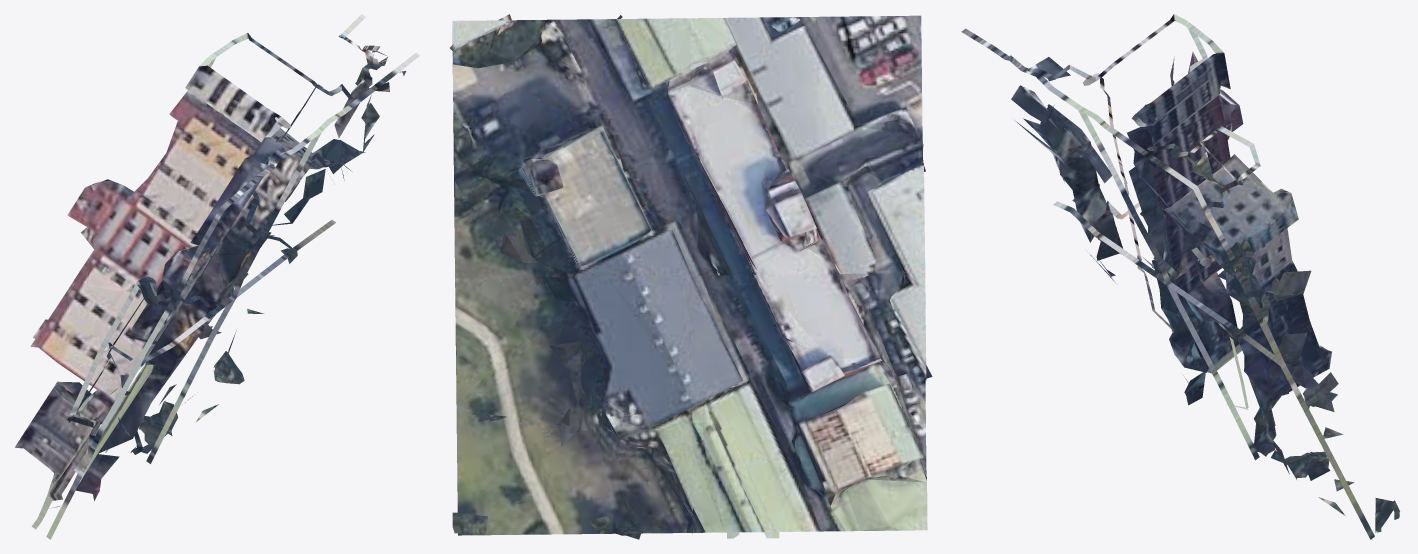
The picture shows the model from 3 angles, left to right: view 1: azimuth 30°, elevation 25°; view 2: azimuth 150°, elevation 25°; view 3: azimuth 270°, elevation 25°; orthographic projection. The views are drawn at different scales.
Size of the model in its own units: 79.61 by 78.51 by 69.58.
1 material, 1 textured.
